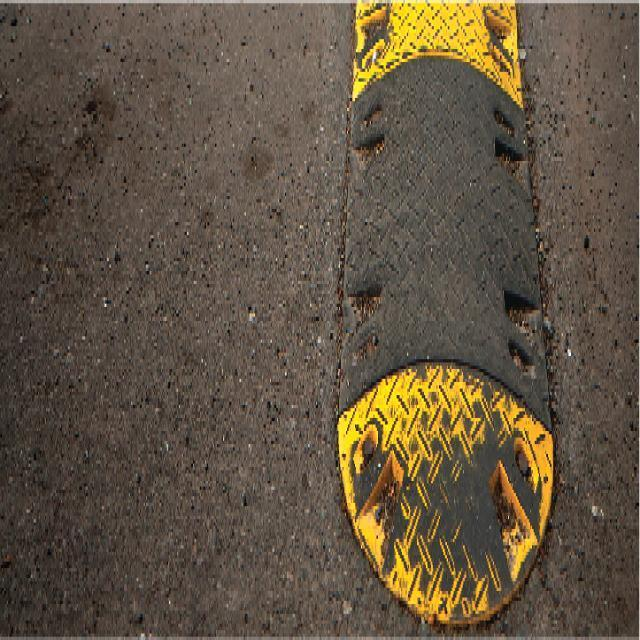Marked Bump: (326, 32, 602, 603)
